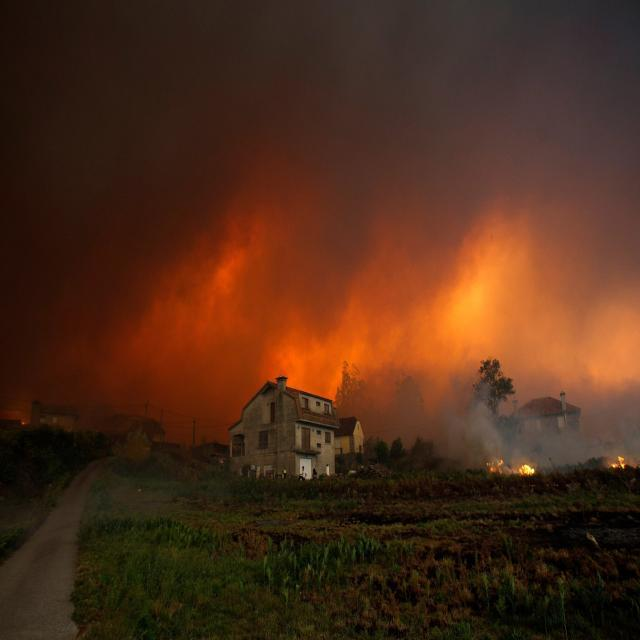Fire: (312, 247, 528, 379)
Smoke: (0, 0, 640, 207), (0, 213, 302, 389)
